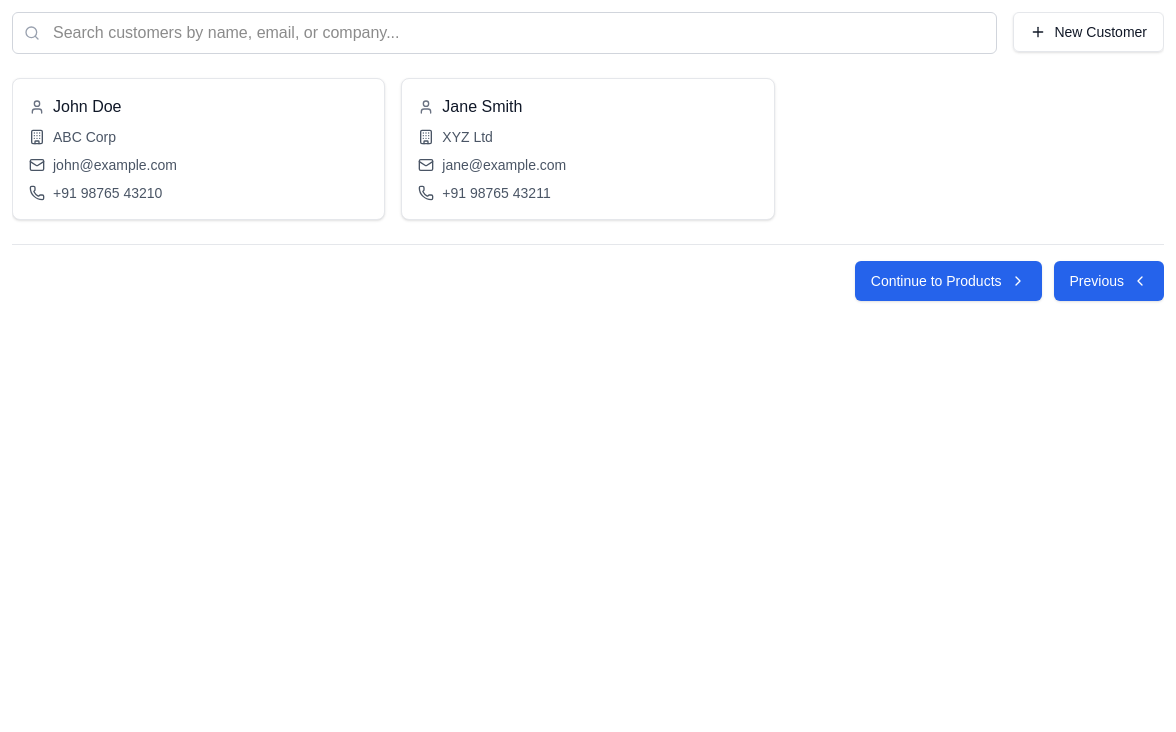
CustomerSelectionStep › switches back to customer list when toggle is clicked again
Switch to new customer form
Click the button "New Customer" at (1089, 32), box [1013,12,1164,52]
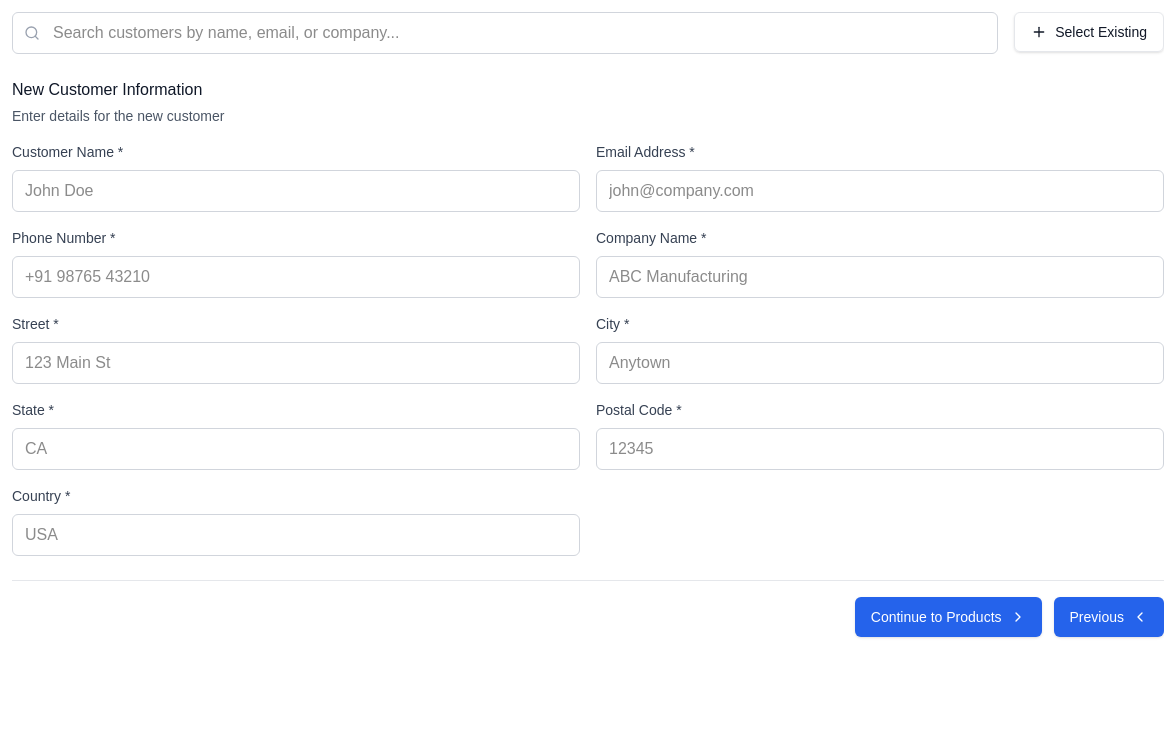
expect the heading "New Customer Information" is shown: met, box [12,81,202,98]
Switch back to existing customers
Click the button "Select Existing" at (1089, 32), box [1014,12,1164,52]
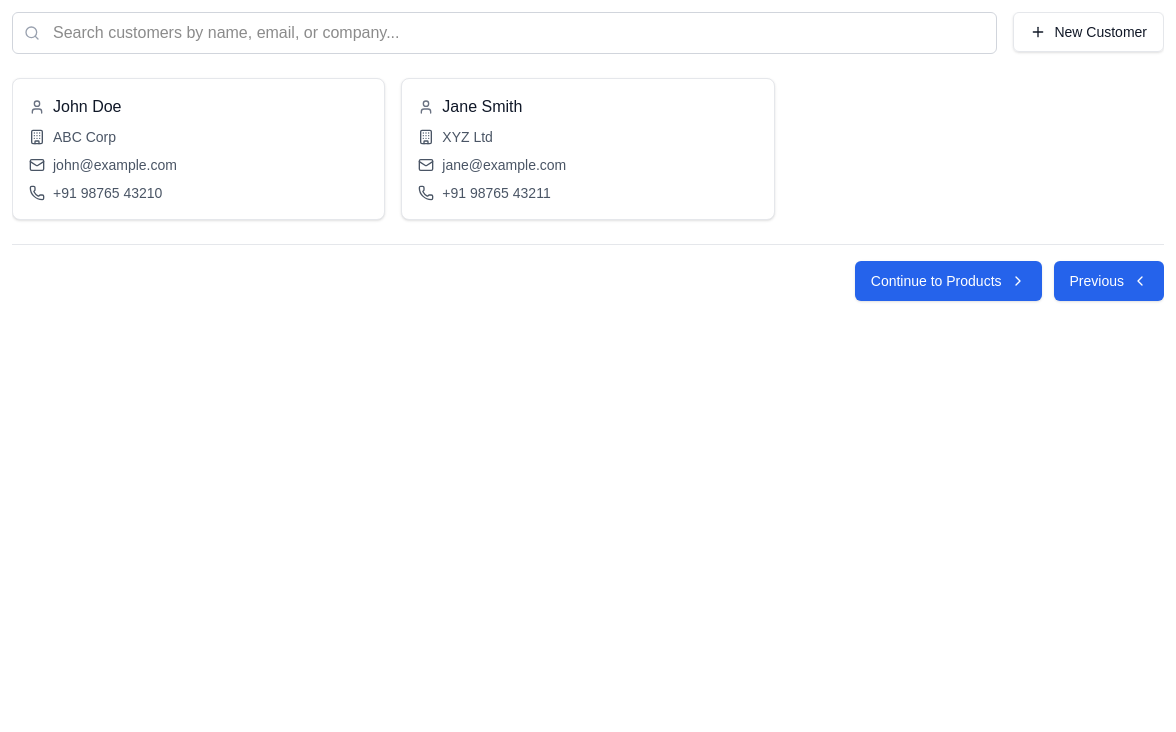
expect the text "John Doe" is shown: met, box [53,95,122,119]
expect the heading "New Customer Information" is gone: met
